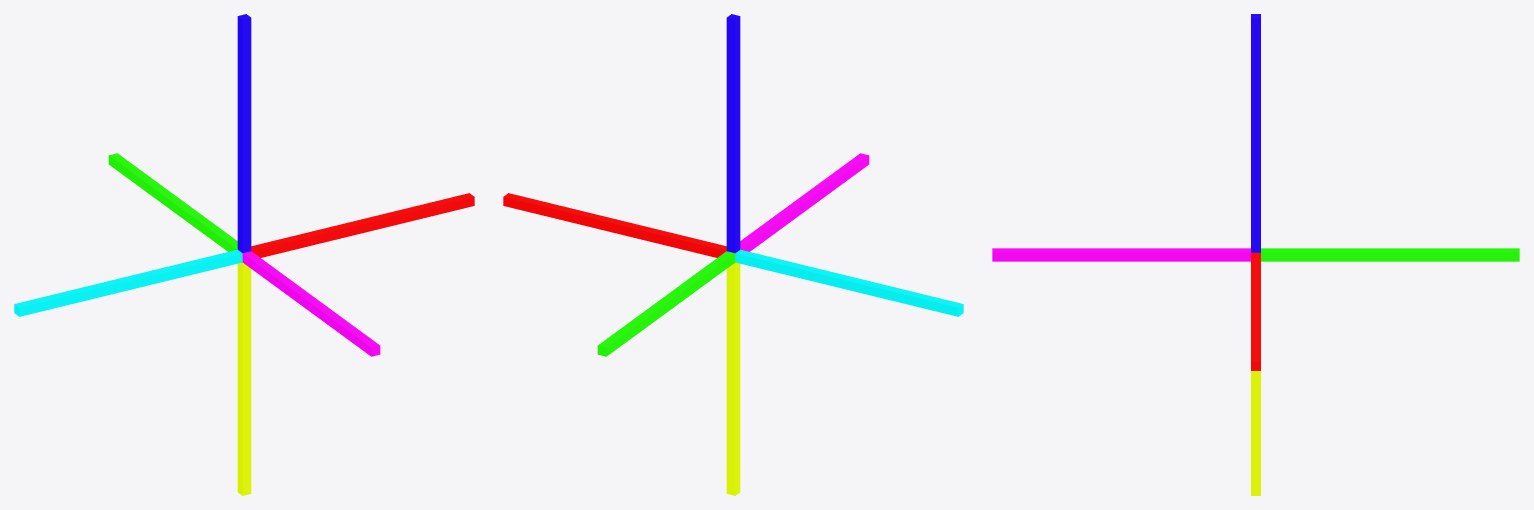
Rendered from gizmo.glb.
The picture shows the model from 3 angles, left to right: view 1: azimuth 30°, elevation 25°; view 2: azimuth 150°, elevation 25°; view 3: azimuth 270°, elevation 25°; orthographic projection.
Parts seen in each view (by area): view 1: Cube.005, Cube.004, Cube, Cube.001, Cube.003, Cube.002; view 2: Cube.005, Cube.004, Cube, Cube.001, Cube.002, Cube.003; view 3: Cube.002, Cube.003, Cube.005, Cube.004, Cube.001.
Boxes of the visible parts, x1=… form: Cube.005: x1=237, y1=14, x2=251, y2=253; Cube.004: x1=237, y1=262, x2=251, y2=495; Cube: x1=14, y1=249, x2=242, y2=316; Cube.001: x1=251, y1=193, x2=474, y2=257; Cube.003: x1=242, y1=251, x2=380, y2=356; Cube.002: x1=108, y1=153, x2=237, y2=251; Cube.005: x1=726, y1=14, x2=740, y2=253; Cube.004: x1=726, y1=262, x2=740, y2=495; Cube: x1=735, y1=249, x2=963, y2=316; Cube.001: x1=503, y1=193, x2=726, y2=257; Cube.002: x1=597, y1=251, x2=735, y2=356; Cube.003: x1=740, y1=153, x2=869, y2=251; Cube.002: x1=1261, y1=248, x2=1519, y2=261; Cube.003: x1=992, y1=248, x2=1250, y2=261; Cube.005: x1=1251, y1=14, x2=1260, y2=252; Cube.004: x1=1251, y1=371, x2=1260, y2=495; Cube.001: x1=1251, y1=252, x2=1260, y2=370.
Bounding box in the file's own units: 104 × 104 × 104.
